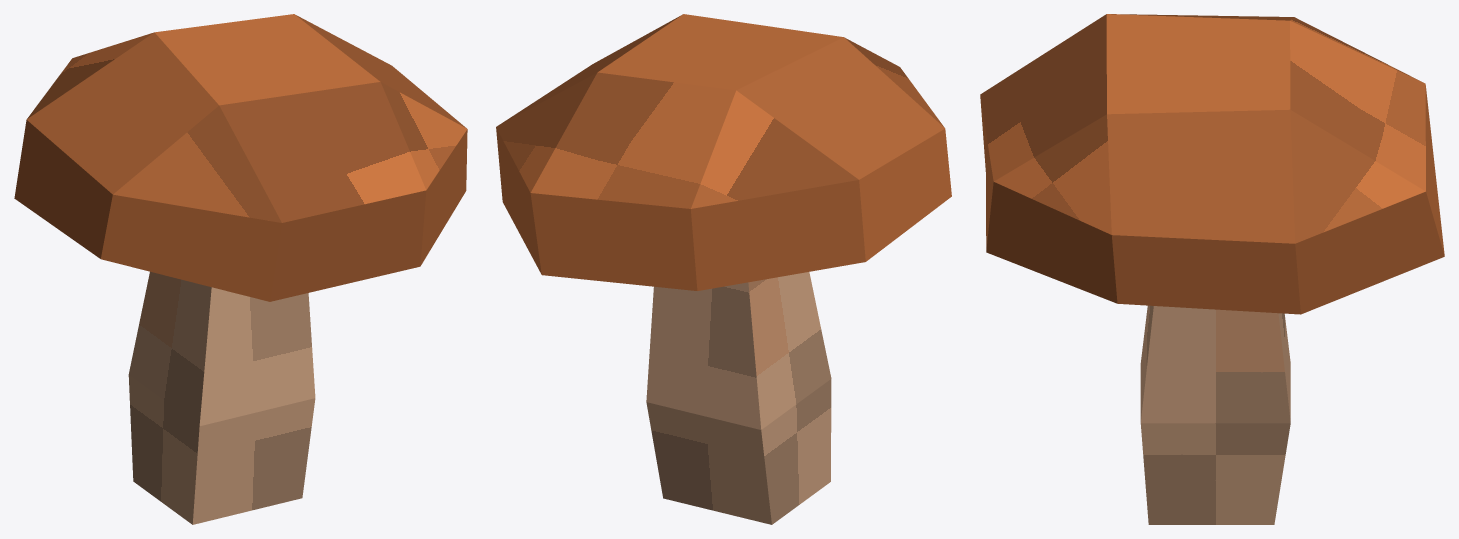
File: Ext-Champiñón1.fbx
3 renders of one model, left to right at view 1: azimuth 30°, elevation 25°; view 2: azimuth 150°, elevation 25°; view 3: azimuth 270°, elevation 25°, orthographic. The views are drawn at different scales.
Visible parts, largest first — view 1: cuboid; view 2: cuboid; view 3: cuboid.
Part boxes in pixels (<box>): cuboid: <box>14,14,467,524</box>; cuboid: <box>496,14,951,524</box>; cuboid: <box>980,14,1444,524</box>.
Bounding box in the file's own units: 17.12 × 19.02 × 17.32.
1 material, 1 textured.
